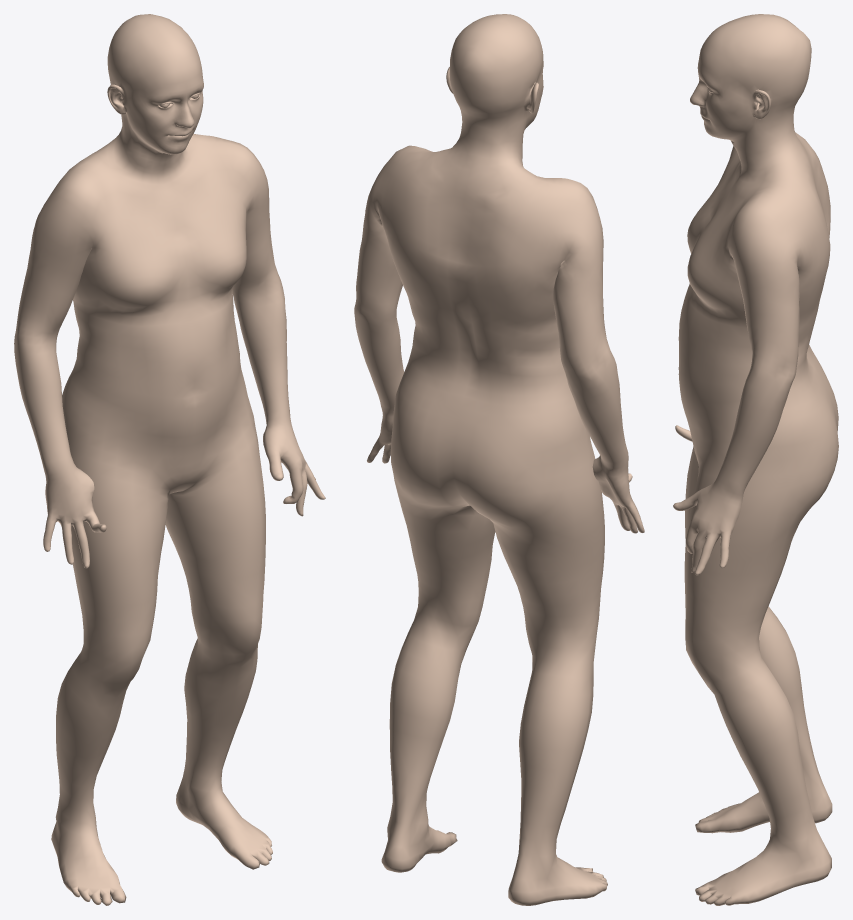
File: WORD-00951.glb
3 renders of one model, left to right at view 1: azimuth 30°, elevation 25°; view 2: azimuth 150°, elevation 25°; view 3: azimuth 270°, elevation 25°, orthographic. The views are drawn at different scales.
Bounding box in the file's own units: 0.5754 × 1.71 × 0.3055.
